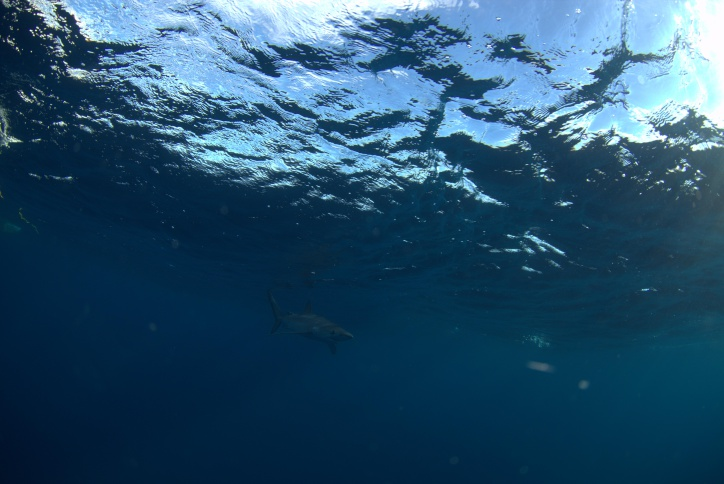Azul: (239, 262, 363, 358)
